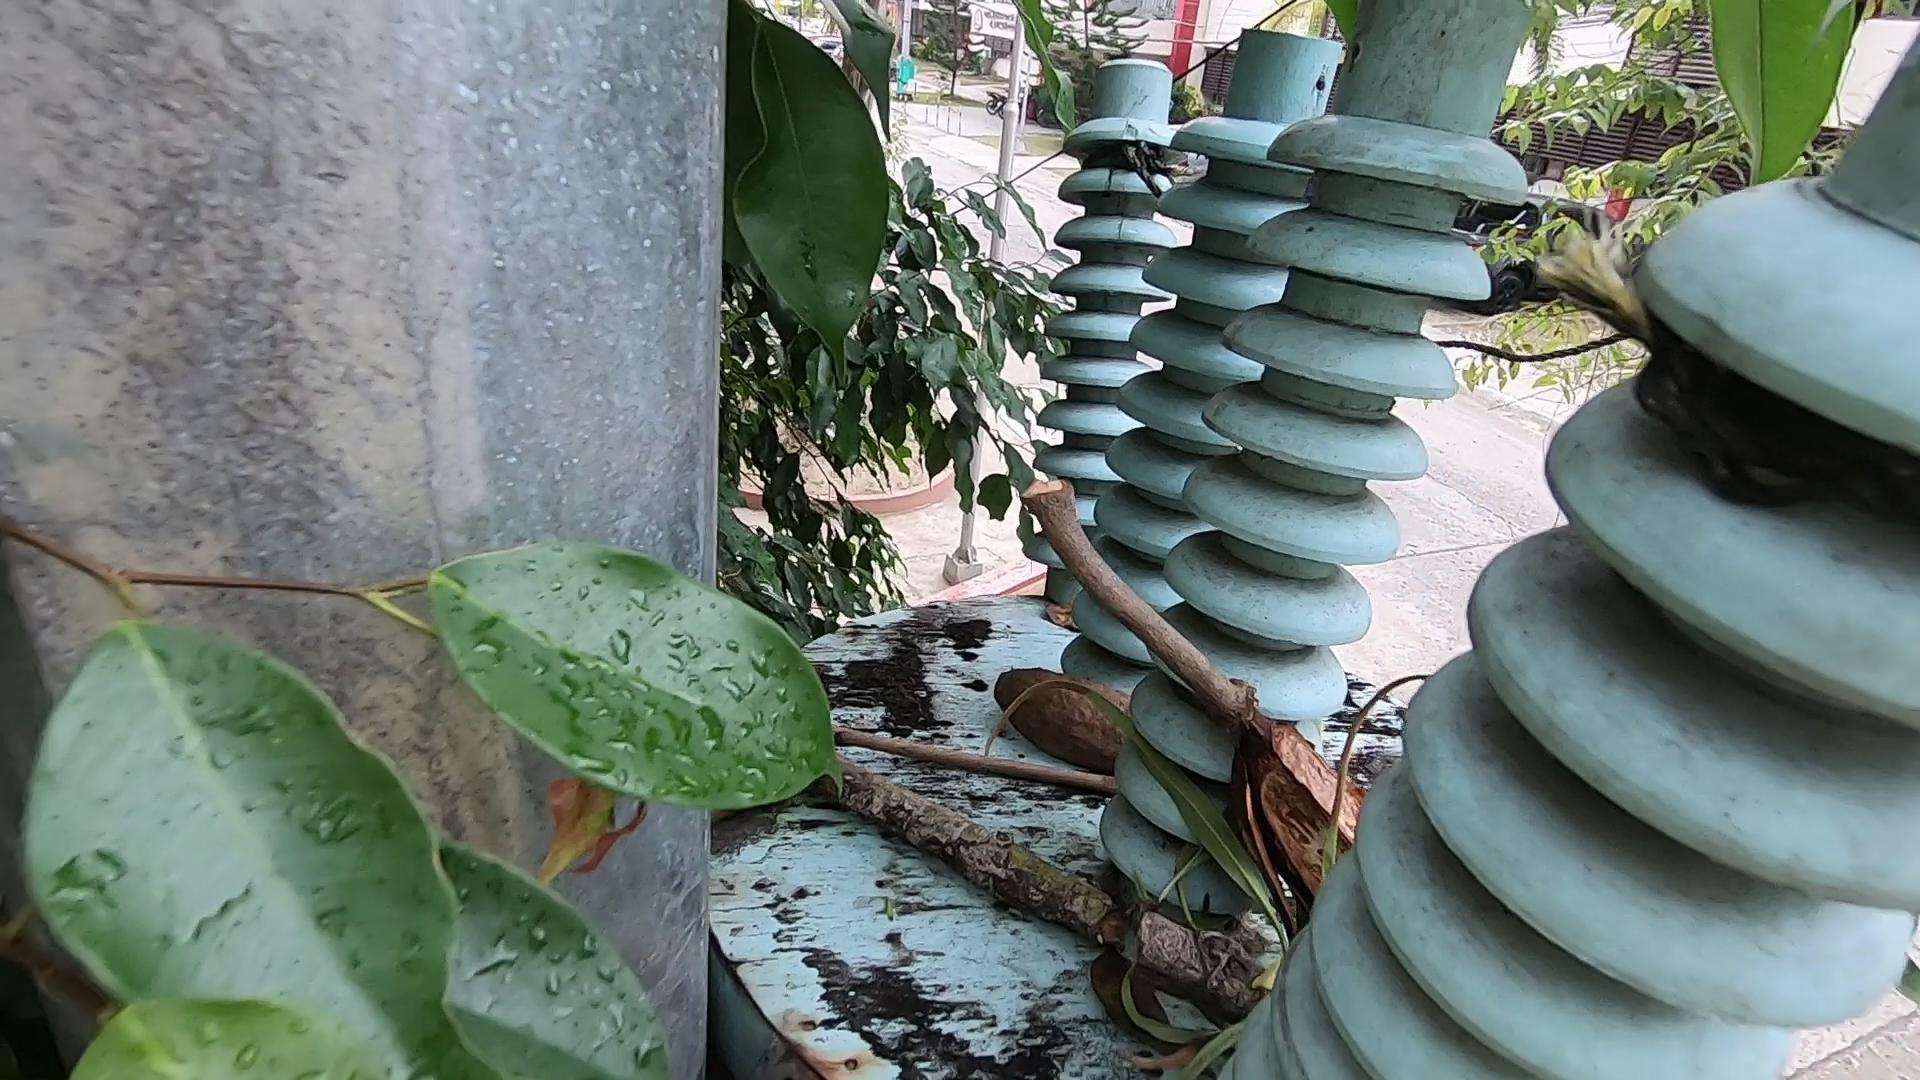branch with leaves: (841, 765, 1251, 1004)
leaf: (1083, 932, 1179, 1048)
mahogany fruit: (1171, 653, 1432, 944), (947, 636, 1091, 804)
tree branch: (1035, 477, 1262, 736), (835, 728, 1120, 781)
